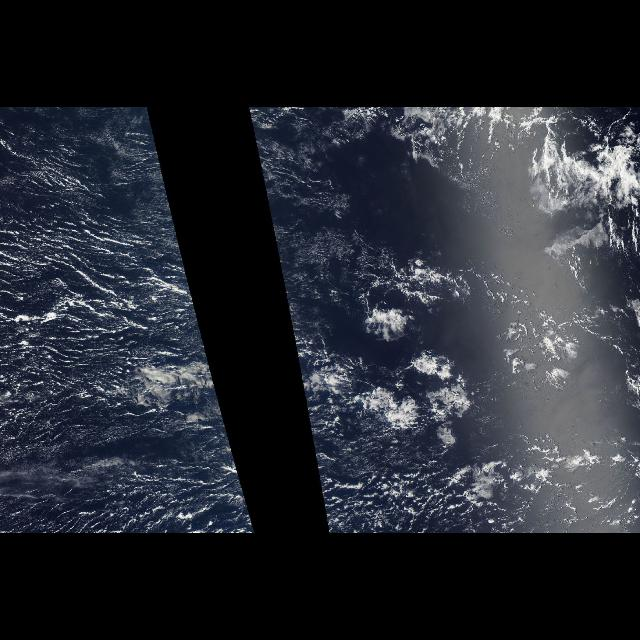Flower: (370, 253, 480, 462)
Gravel: (278, 150, 634, 510), (32, 154, 208, 448)
Sugar: (2, 110, 232, 528), (248, 110, 388, 352)
